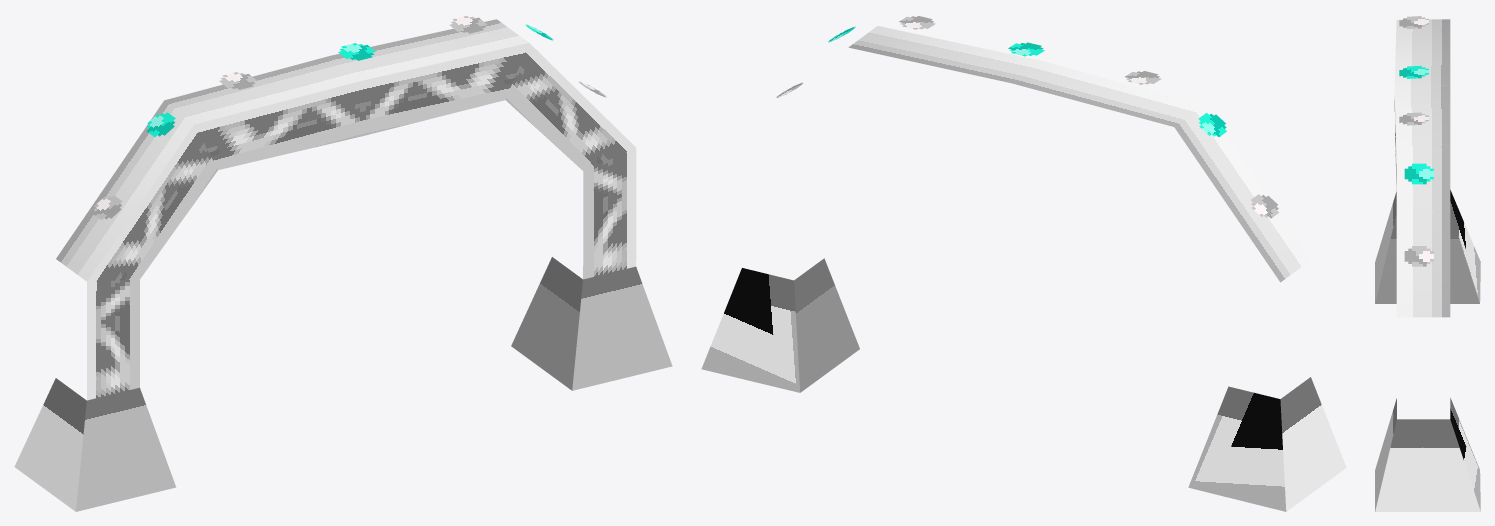
3 views of the same model, side by side, from view 1: azimuth 30°, elevation 25°; view 2: azimuth 150°, elevation 25°; view 3: azimuth 270°, elevation 25° (orthographic). The views are drawn at different scales.
Bounding box in the file's own units: 11.05 × 6.55 × 1.97.
3 materials, 3 textured.
